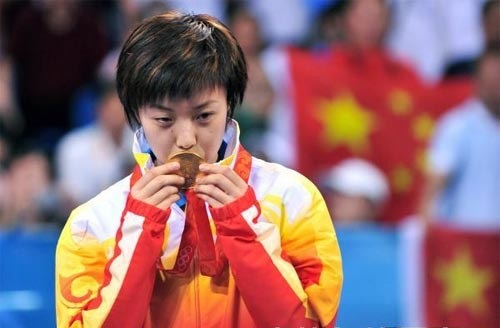face: (142, 72, 223, 170)
